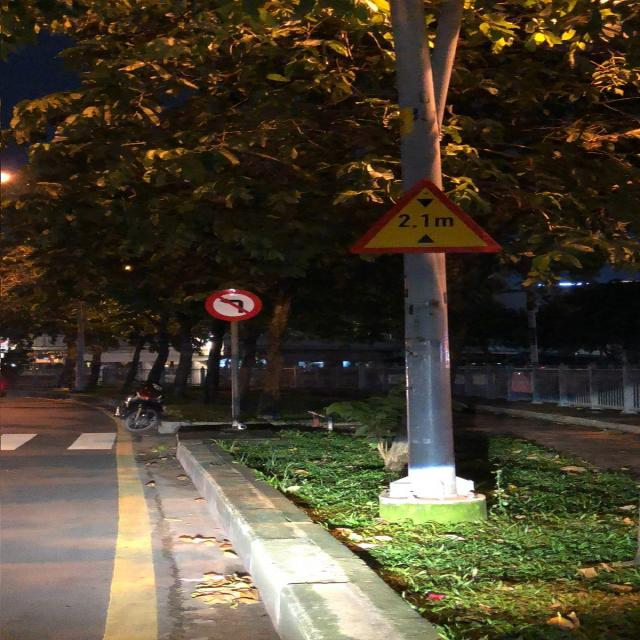Bien bao cam re trai: (200, 286, 263, 324)
Bien bao chieu cao tinh khong thuc te: (337, 179, 515, 262)
